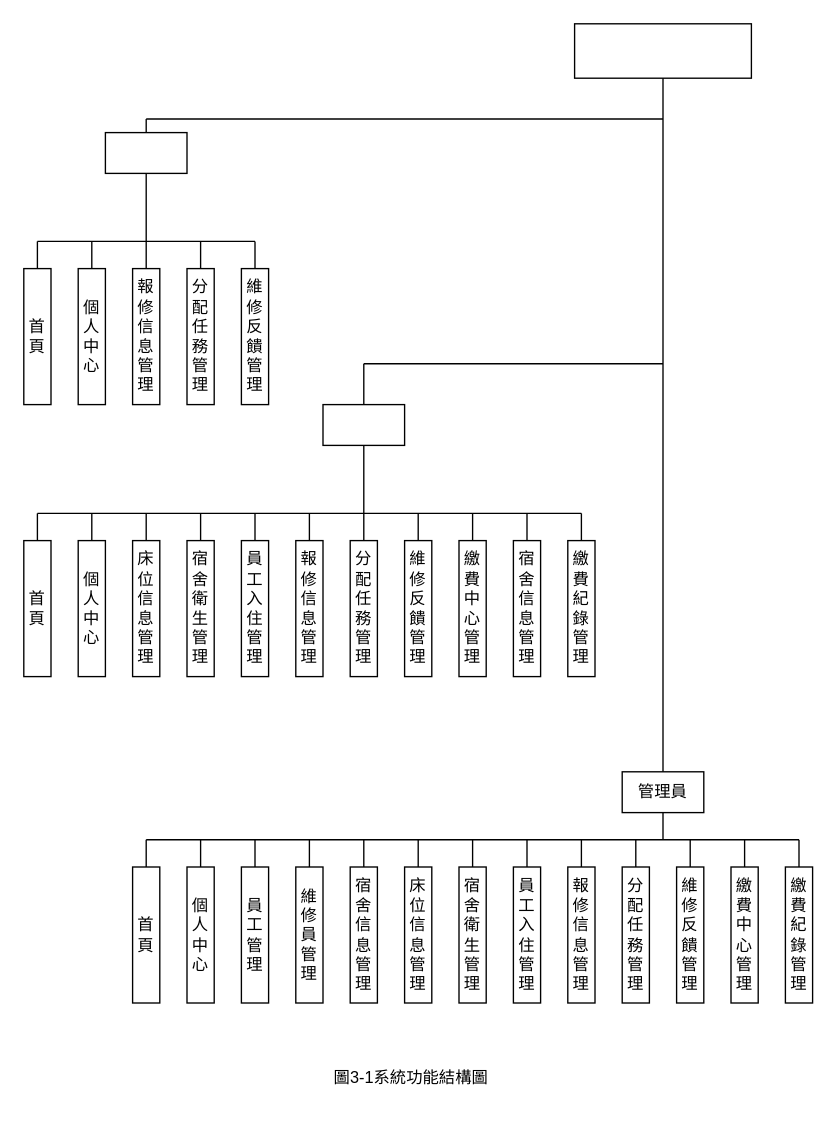
Some shapes in this 836 by 1122 pixel diagram are drawn without their labels. Each missing label, with the centre of its shape:
員工: point 363,424
員工宿舍管理系統: point 662,50
維修員: point 145,152
